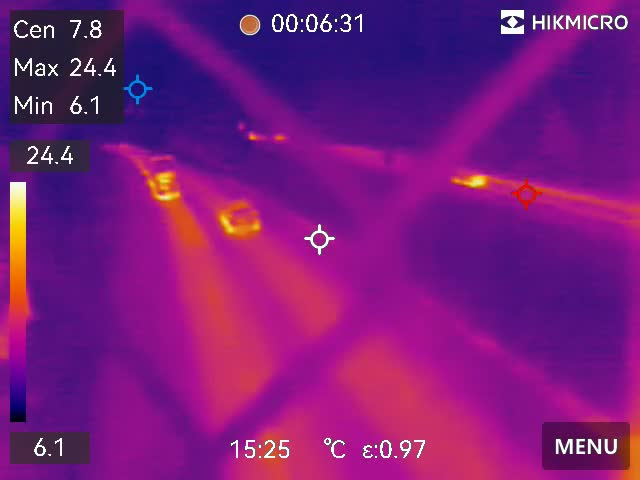heavyTruck: (143, 154, 182, 208)
